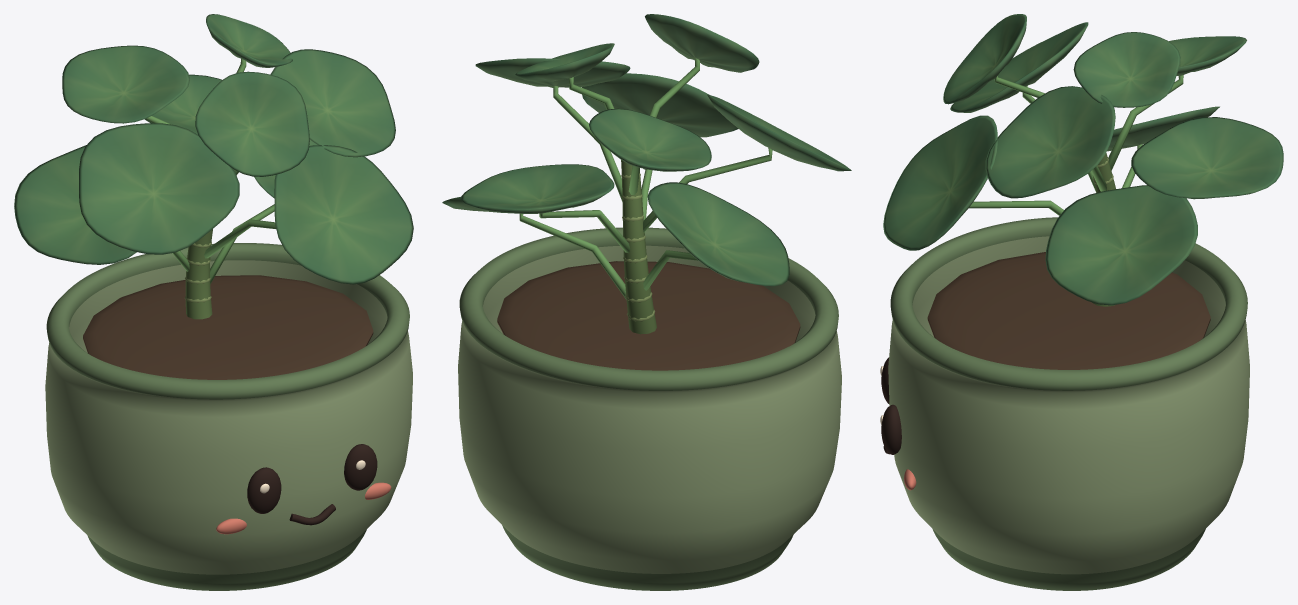
File: chinese-money-plant-v1.glb
3 renders of one model, left to right at view 1: azimuth 30°, elevation 25°; view 2: azimuth 150°, elevation 25°; view 3: azimuth 270°, elevation 25°, orthographic. The views are drawn at different scales.
Parts seen in each view (by area): view 1: Wheel-thrown ceramic, Foliage draw mesh, Soil, Eye, Eye.001; view 2: Wheel-thrown ceramic, Foliage draw mesh, Soil; view 3: Wheel-thrown ceramic, Foliage draw mesh, Soil, Eye.001.
Part boxes in pixels (x1,y1,x2,y2): Wheel-thrown ceramic: (45,243,412,590); Foliage draw mesh: (14,14,413,319); Soil: (83,275,373,379); Eye: (247,467,281,513); Eye.001: (344,444,377,490); Wheel-thrown ceramic: (458,227,841,590); Foliage draw mesh: (442,14,851,334); Soil: (497,261,800,370); Wheel-thrown ceramic: (888,217,1249,590); Foliage draw mesh: (883,14,1283,306); Soil: (927,252,1210,369); Eye.001: (881,404,901,454).
Bounding box in the file's own units: 1.65 × 2.32 × 1.67.
